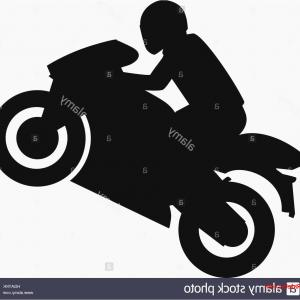with_helmet: (135, 1, 192, 55)
